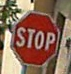stop: (11, 10, 60, 66)
